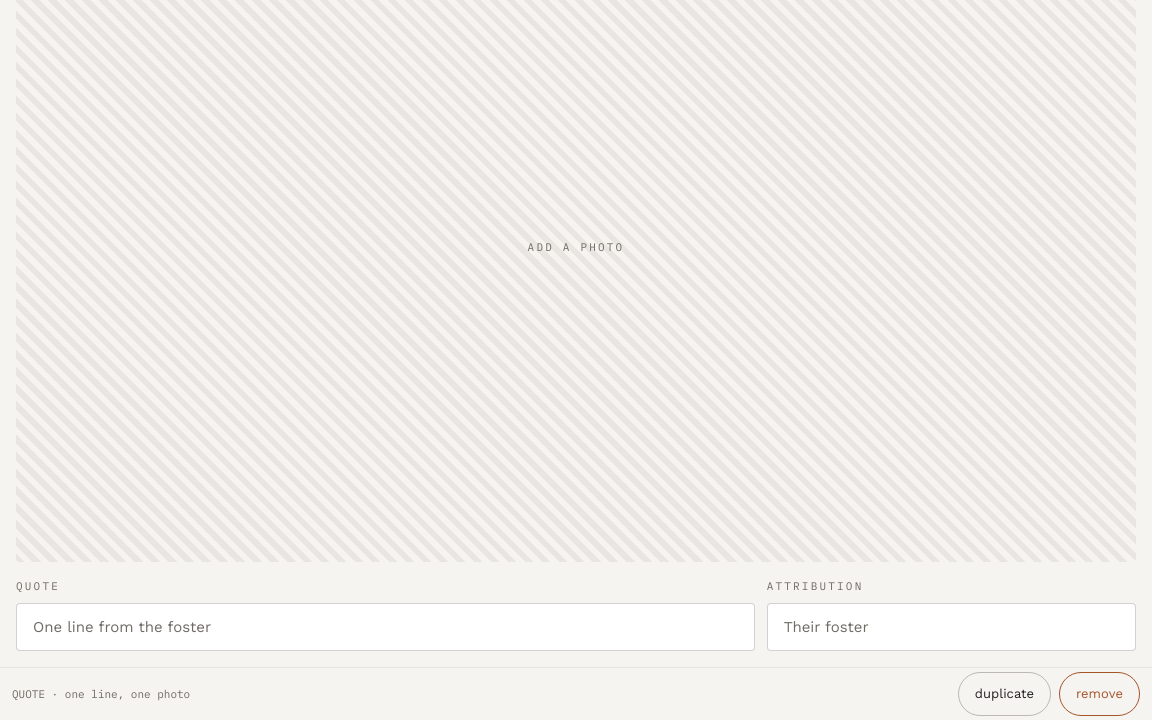
Test: QuoteEditor › writes the line and the attribution to their paths and shows them over the photo
The image size is (1152, 720).
(page scrolled)
Type "A negotiator, not a complainer." into the field labelled "Quote" at (385, 627), box [16,602,755,651]
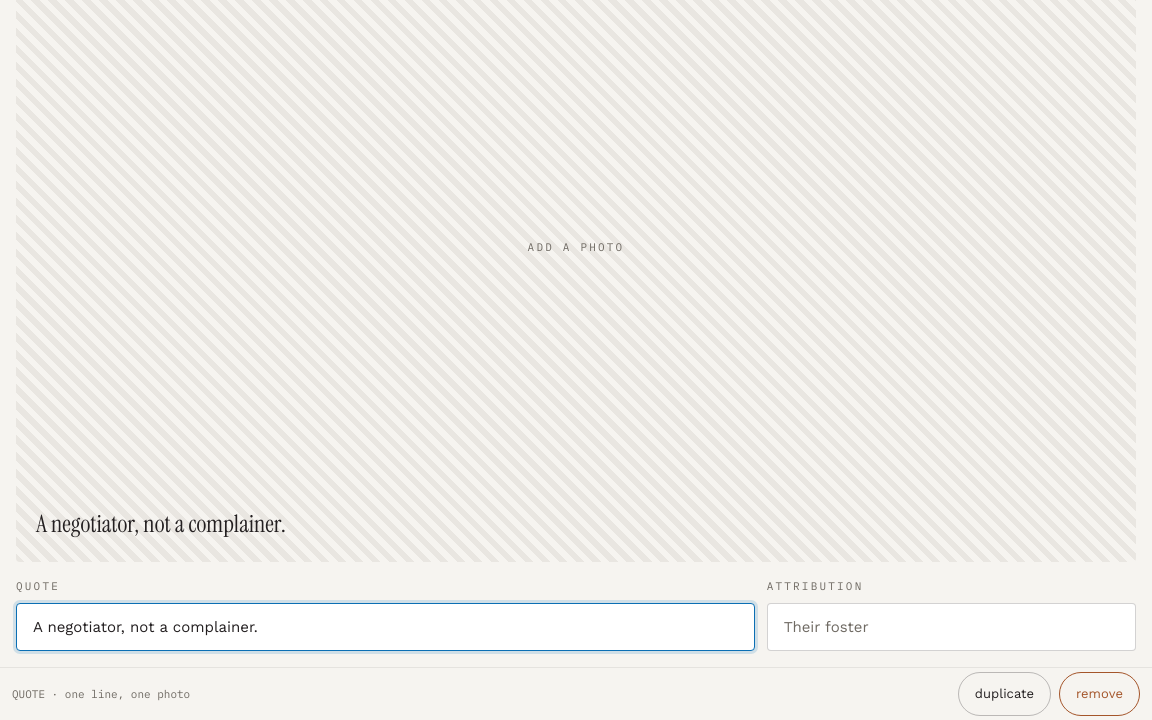
Type "Her foster" into the field labelled "Attribution" at (951, 627), box [767,602,1136,651]
Then press Enter
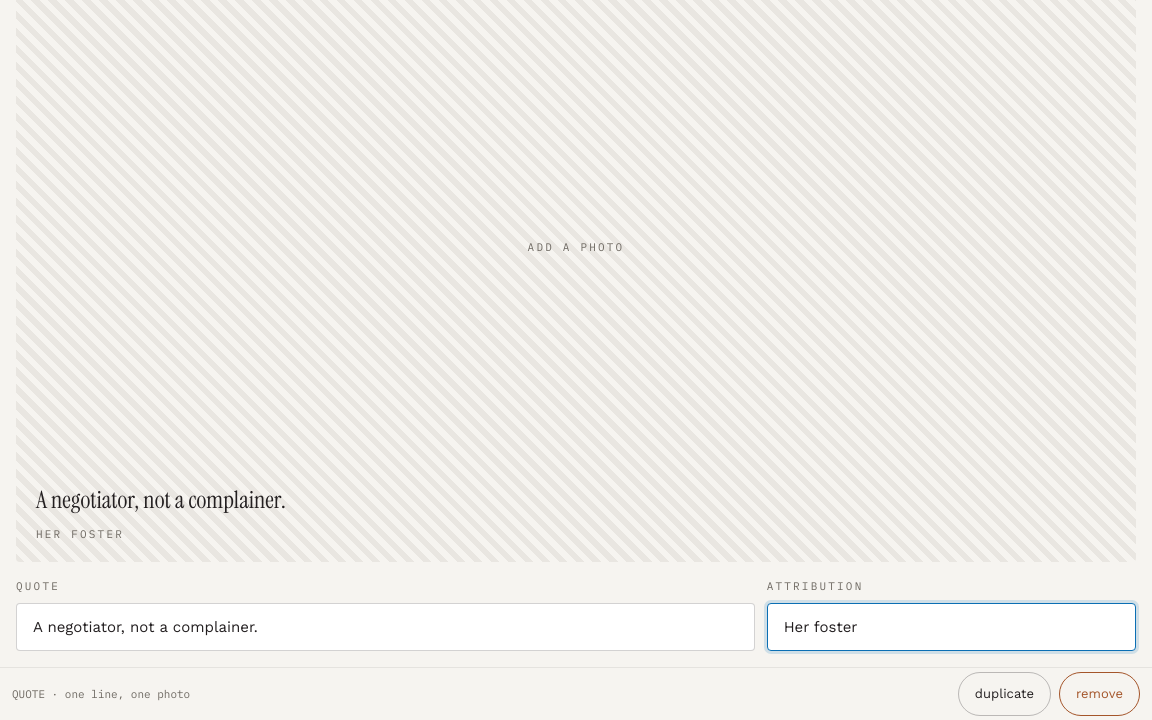
Result: the text "A negotiator, not a complainer." is shown at [36,484,286,514]
Result: the text "Her foster" is shown at [36,526,124,540]
